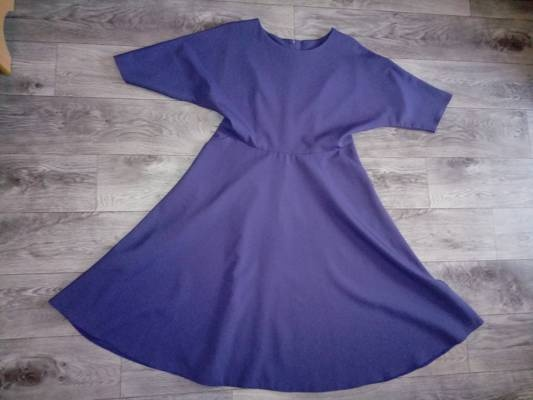Dress: (44, 13, 492, 382)
